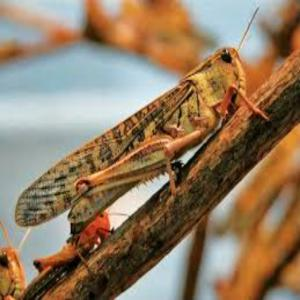locust: (22, 47, 248, 247)
